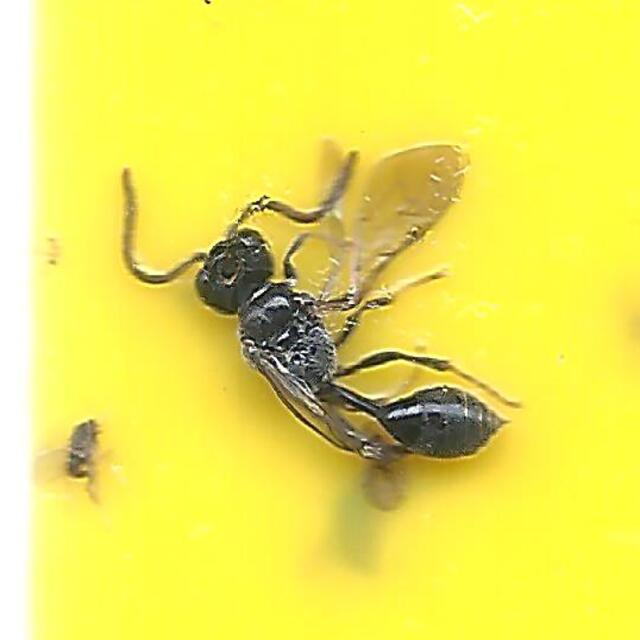Hymenoptera: (119, 132, 521, 508)
